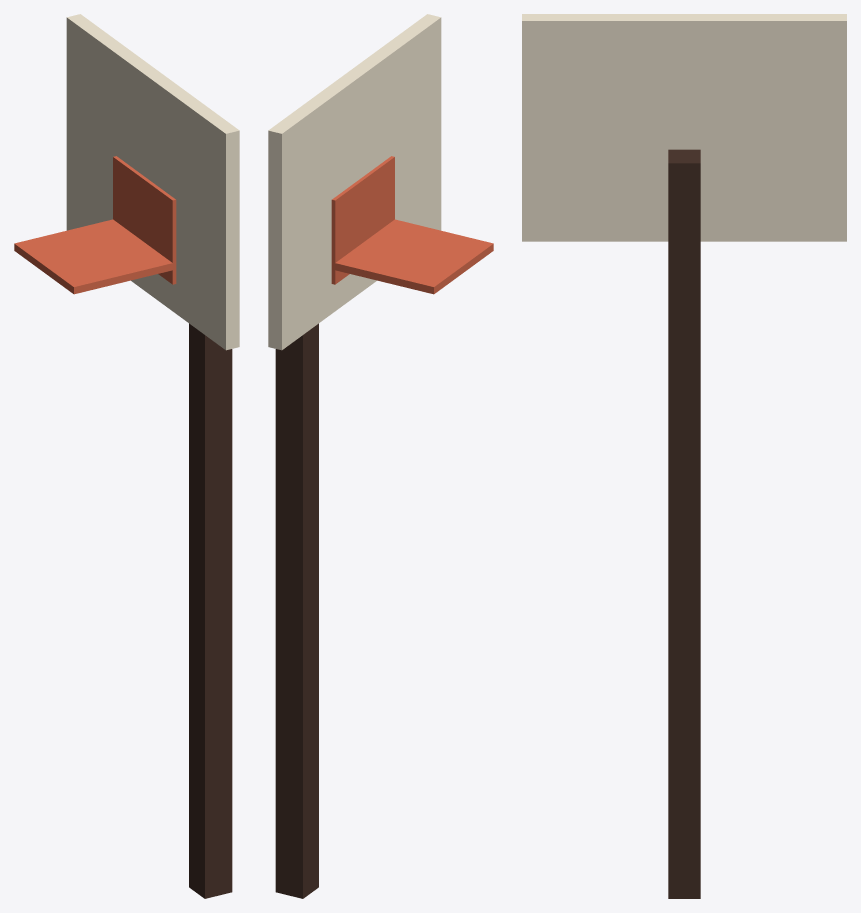
File: hoop.glb
3 renders of one model, left to right at view 1: azimuth 30°, elevation 25°; view 2: azimuth 150°, elevation 25°; view 3: azimuth 270°, elevation 25°, orthographic.
Parts seen in each view (by area): view 1: Box2, Box1, Box4, Box3; view 2: Box2, Box1, Box4, Box3; view 3: Box2, Box1.
Part boxes in pixels (x1,y1,x2,y2): Box2: [66, 14, 239, 350]; Box1: [189, 323, 232, 898]; Box4: [14, 219, 175, 294]; Box3: [113, 156, 176, 284]; Box2: [268, 14, 441, 350]; Box1: [275, 323, 318, 898]; Box4: [332, 219, 493, 294]; Box3: [331, 156, 394, 284]; Box2: [522, 14, 846, 241]; Box1: [668, 149, 700, 898].
Size of the model in its own units: 0.785 by 3.45 by 1.2.
